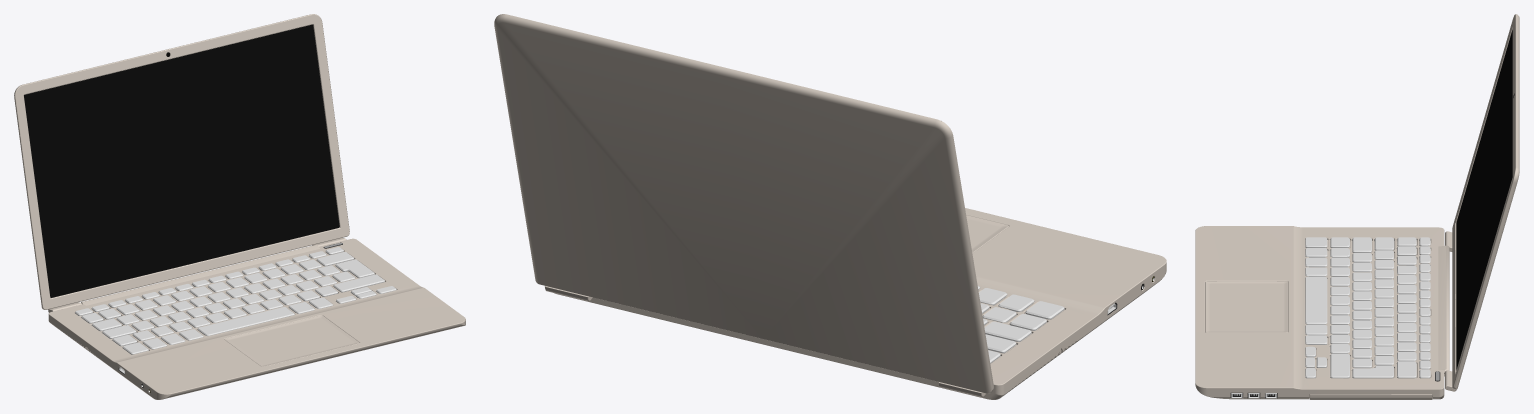
File: bilgisayar.fbx
The picture shows the model from 3 angles, left to right: view 1: azimuth 30°, elevation 25°; view 2: azimuth 150°, elevation 25°; view 3: azimuth 270°, elevation 25°; orthographic projection. The views are drawn at different scales.
Parts seen in each view (by area): view 1: screen, Laptop, keyboard; view 2: screen, Laptop, keyboard; view 3: Laptop, keyboard, screen.
Boxes of the visible parts, x1,y1,x2,y2 form: screen: (14,14,349,312); Laptop: (48,238,465,399); keyboard: (75,247,396,354); screen: (494,14,993,397); Laptop: (554,208,1166,399); keyboard: (977,286,1064,363); Laptop: (1195,226,1449,399); keyboard: (1305,237,1430,378); screen: (1445,14,1519,391).
Bounding box in the file's own units: 39.98 × 26.46 × 33.84.
